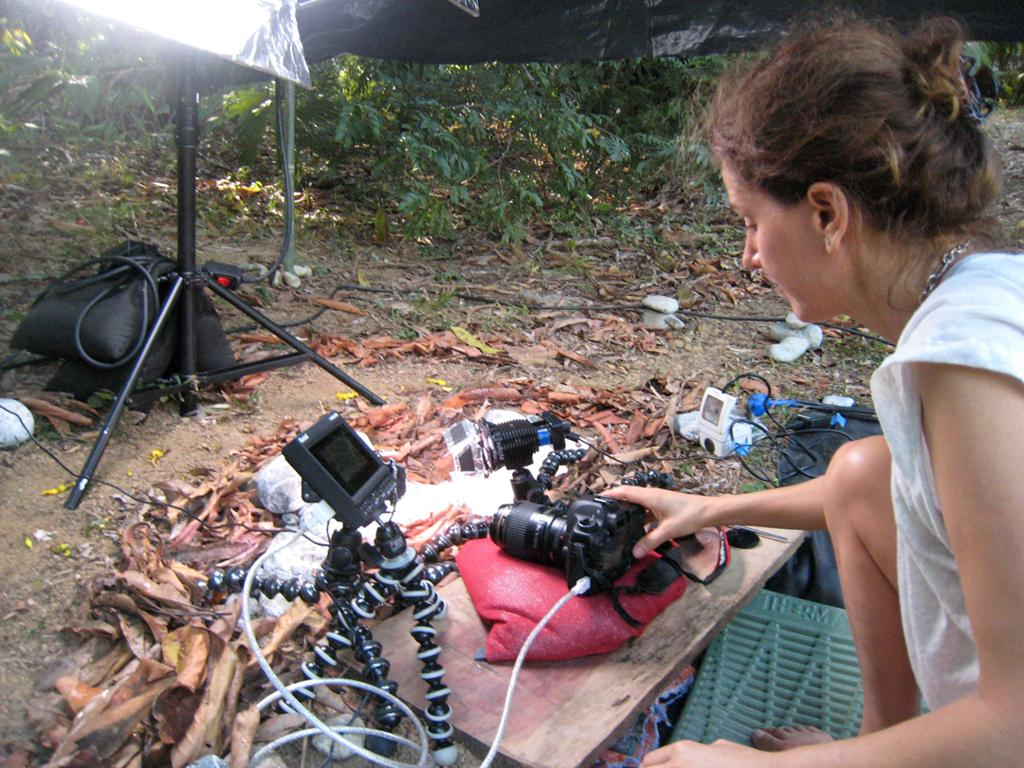face: (720, 158, 818, 332)
